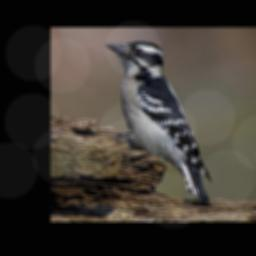Woodpecker: (105, 38, 213, 209)
